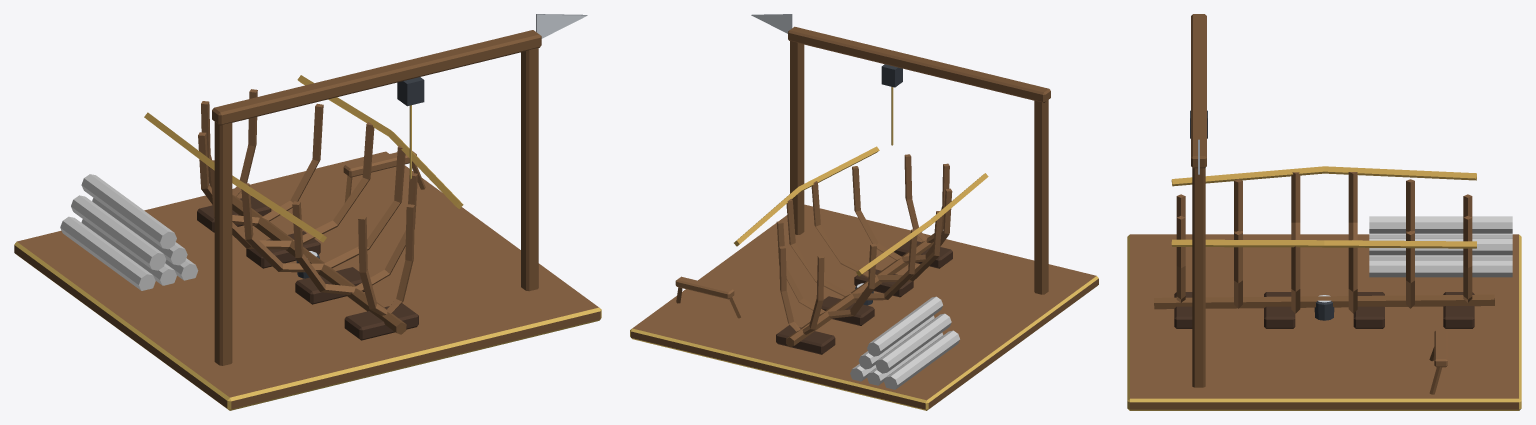
File: ShipwrightSlip.obj
3 renders of one model, left to right at view 1: azimuth 30°, elevation 25°; view 2: azimuth 150°, elevation 25°; view 3: azimuth 270°, elevation 25°, orthographic. The views are drawn at different scales.
Bounding box in the file's own units: 9.35 × 6.4 × 8.8.
